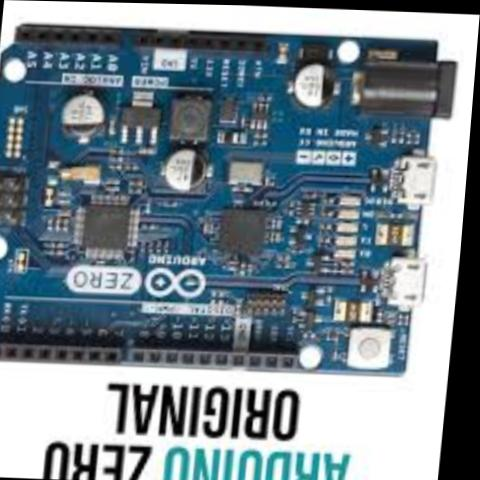Arduino-Zero: (0, 14, 460, 399)
